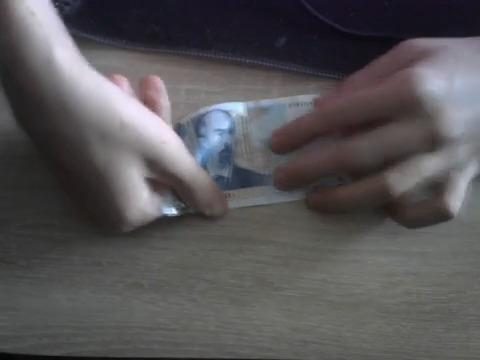20leva: (174, 98, 312, 190)
